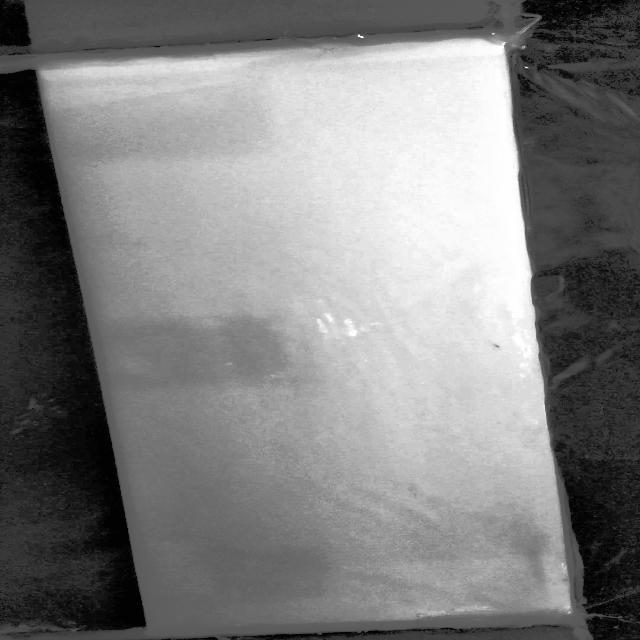shrimp: (482, 340, 513, 356)
